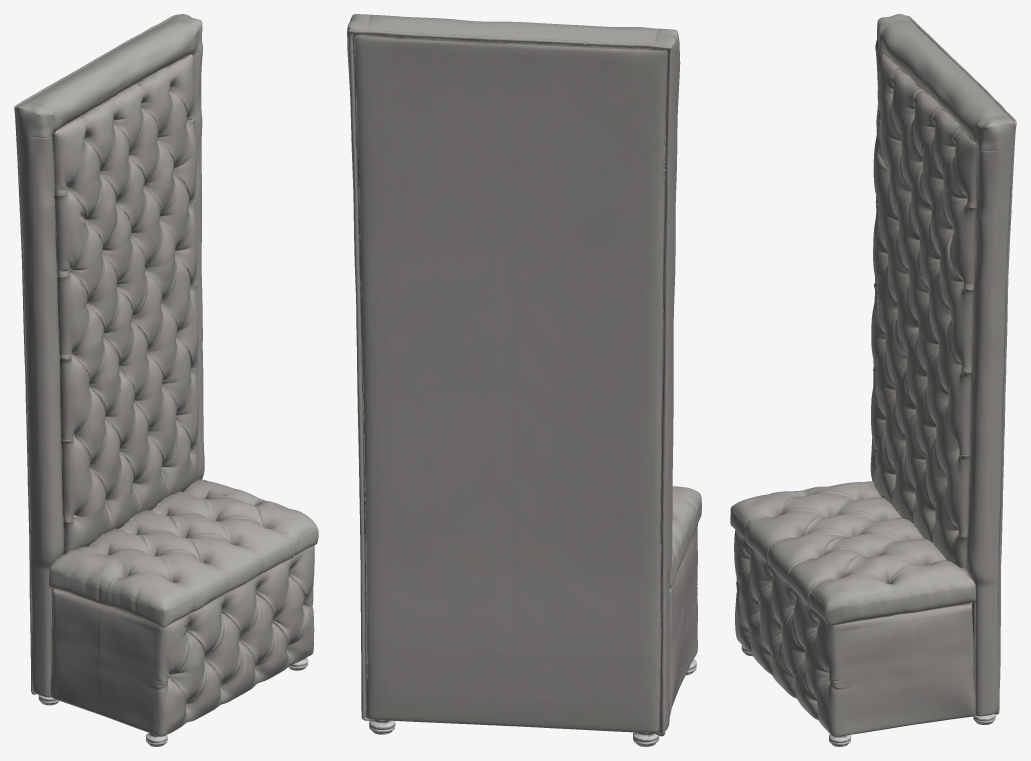
Rendered from Pano.glb.
3 renders of one model, left to right at view 1: azimuth 30°, elevation 25°; view 2: azimuth 150°, elevation 25°; view 3: azimuth 270°, elevation 25°, orthographic. The views are drawn at different scales.
Parts seen in each view (by area): view 1: tripo_node_c6b1be2a-9ad7-45bf-a58c-97c174a68399; view 2: tripo_node_c6b1be2a-9ad7-45bf-a58c-97c174a68399; view 3: tripo_node_c6b1be2a-9ad7-45bf-a58c-97c174a68399.
Boxes of the visible parts, x1,y1,x2,y2 form: tripo_node_c6b1be2a-9ad7-45bf-a58c-97c174a68399: (14,14,318,746); tripo_node_c6b1be2a-9ad7-45bf-a58c-97c174a68399: (347,14,701,746); tripo_node_c6b1be2a-9ad7-45bf-a58c-97c174a68399: (730,14,1016,746).
Bounding box in the file's own units: 0.4524 × 0.9799 × 0.417.
1 material, 1 textured.
